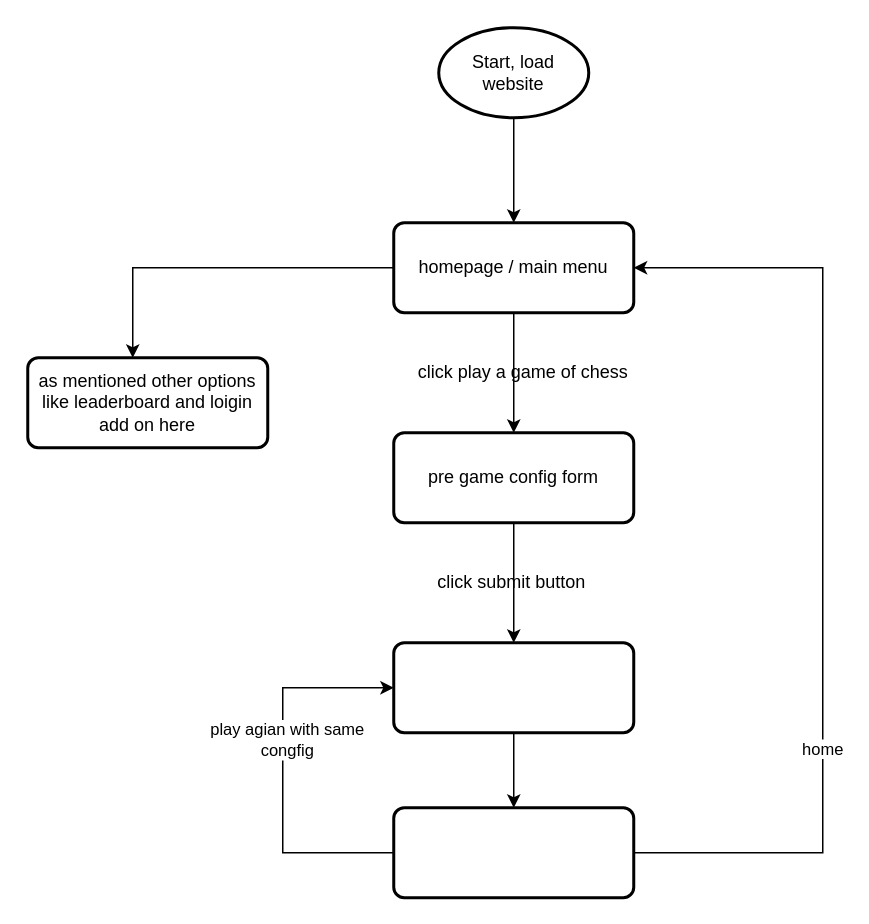
The diagram is 869 pixels wide and 924 high, and some of its shapes have lost their labels. Each missing label, with the centre of its shape:
Play chess game until over on chess game page: pixel 513 687
popup appears on chess game page: pixel 513 852
